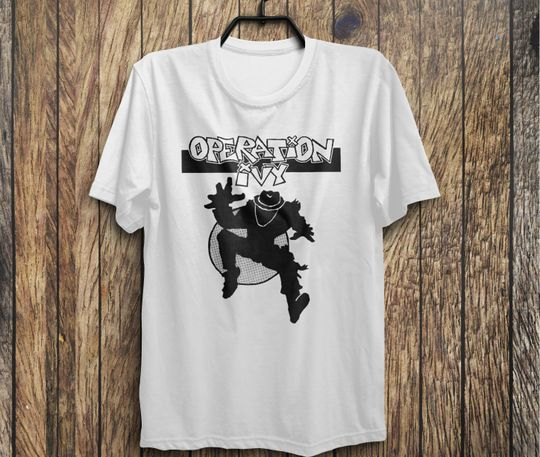design: (180, 130, 344, 325)
